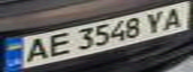3: (72, 25, 96, 52)
4: (109, 18, 130, 44)
5: (93, 21, 115, 47)
8: (121, 15, 148, 39)
A: (15, 35, 54, 64), (154, 5, 193, 30)
E: (39, 30, 75, 59)
Y: (139, 9, 172, 35)
